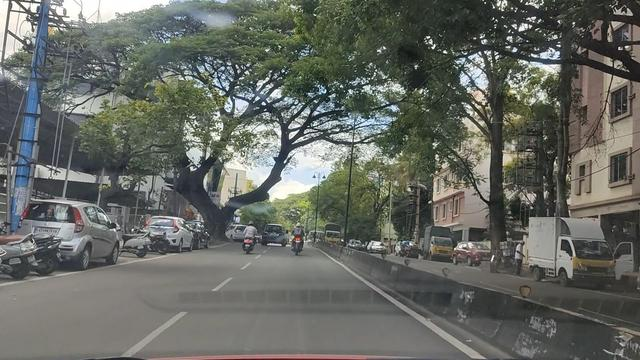LMV: (28, 192, 126, 273)
